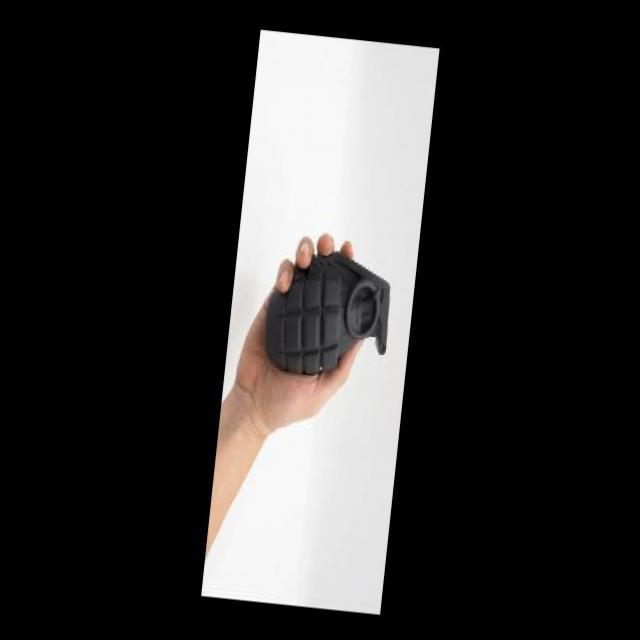grenade: (251, 248, 401, 392)
